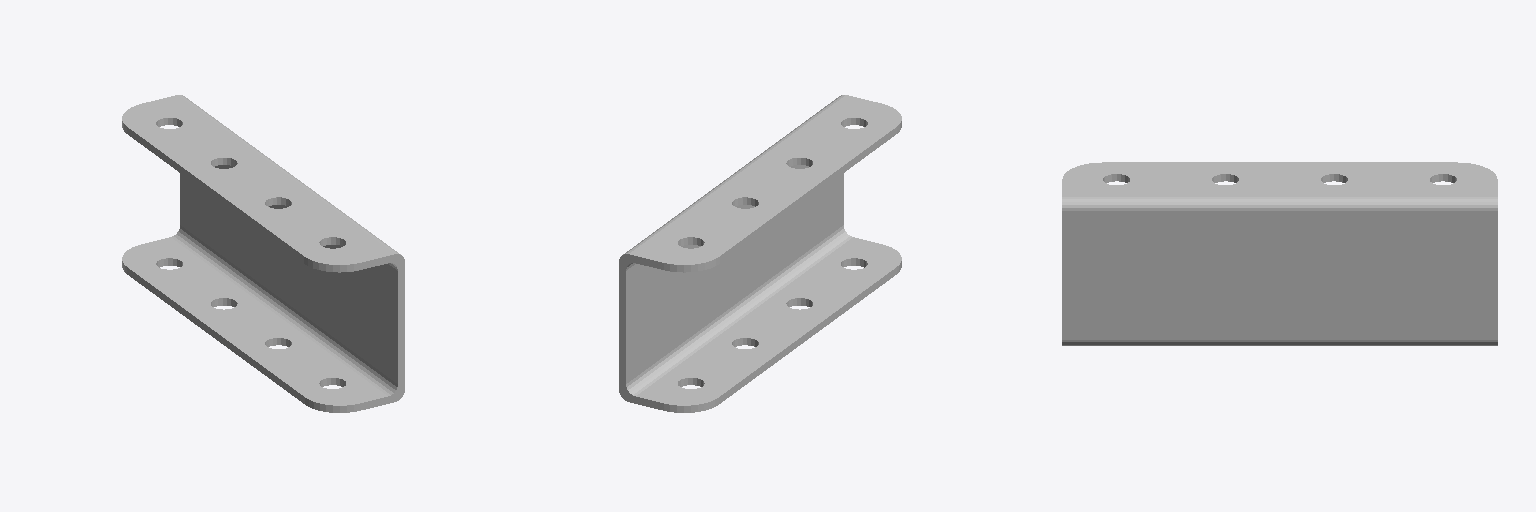
File: lacznik.obj
3 views of the same model, side by side, from view 1: azimuth 30°, elevation 25°; view 2: azimuth 150°, elevation 25°; view 3: azimuth 270°, elevation 25° (orthographic).
Parts seen in each view (by area): view 1: Bryła377; view 2: Bryła377; view 3: Bryła377.
Part boxes in pixels (left/top/right/bottom): Bryła377: left=122, top=95, right=404, bottom=412; Bryła377: left=619, top=95, right=901, bottom=412; Bryła377: left=1062, top=162, right=1497, bottom=345.
Size of the model in its own units: 34 by 60 by 160.